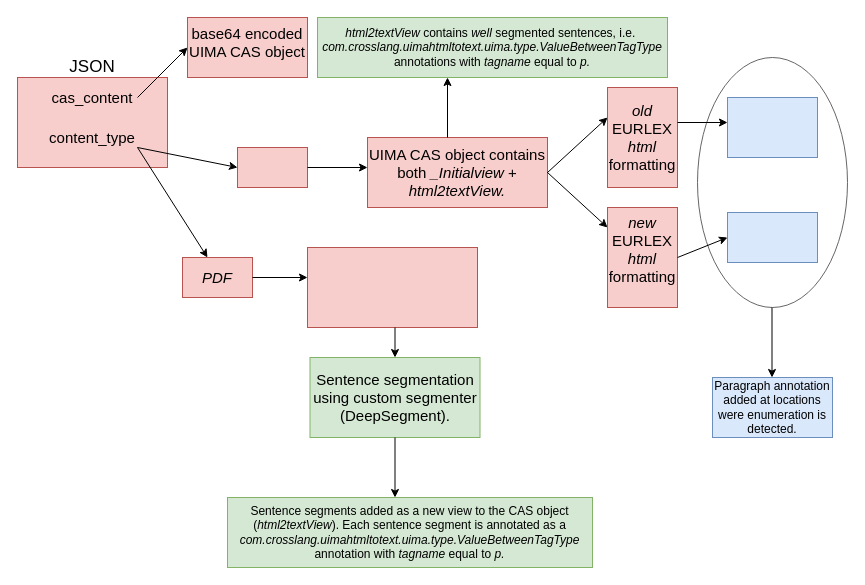
This 865x585 diagram has some shape labels left out. The centre of each missing label's shape, as x and y in pixels:
Hand crafted rules for detection of enumeration.: (772,127)
HTML: (272,167)
UIMA CAS object only contains _Initialview (output of pdf parser).: (392,287)
Use of html tags for detection of enumeration.: (772,237)
